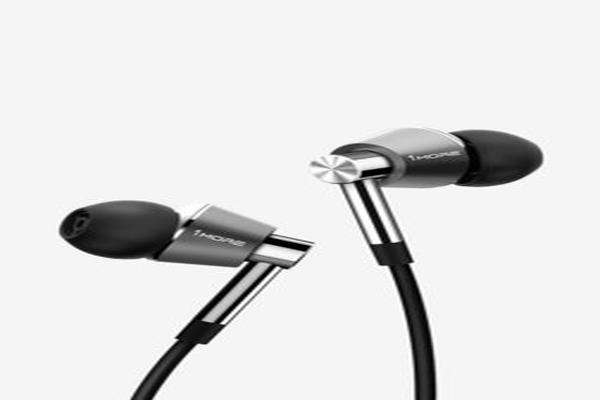headphone: (44, 122, 561, 344)
